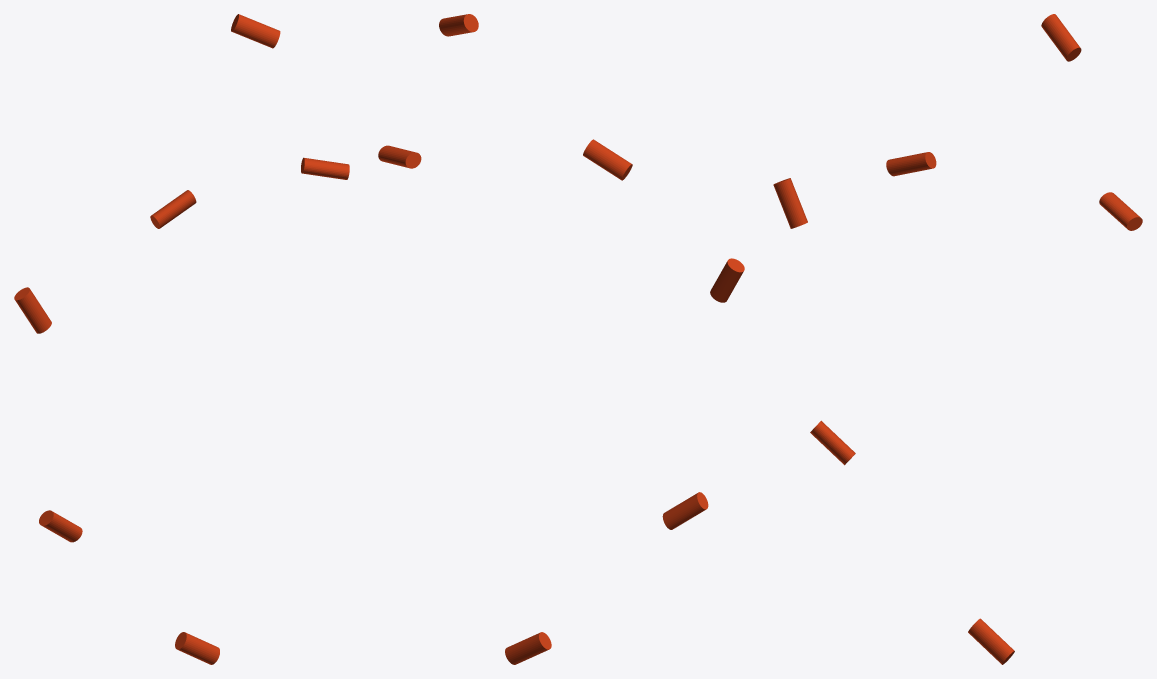
3 views of the same model, side by side, from view 1: azimuth 30°, elevation 25°; view 2: azimuth 150°, elevation 25°; view 3: azimuth 330°, elevation 25° (orthographic). The views are drawn at different scales.
Size of the model in its own units: 0.502 by 0.8816 by 0.1118.
